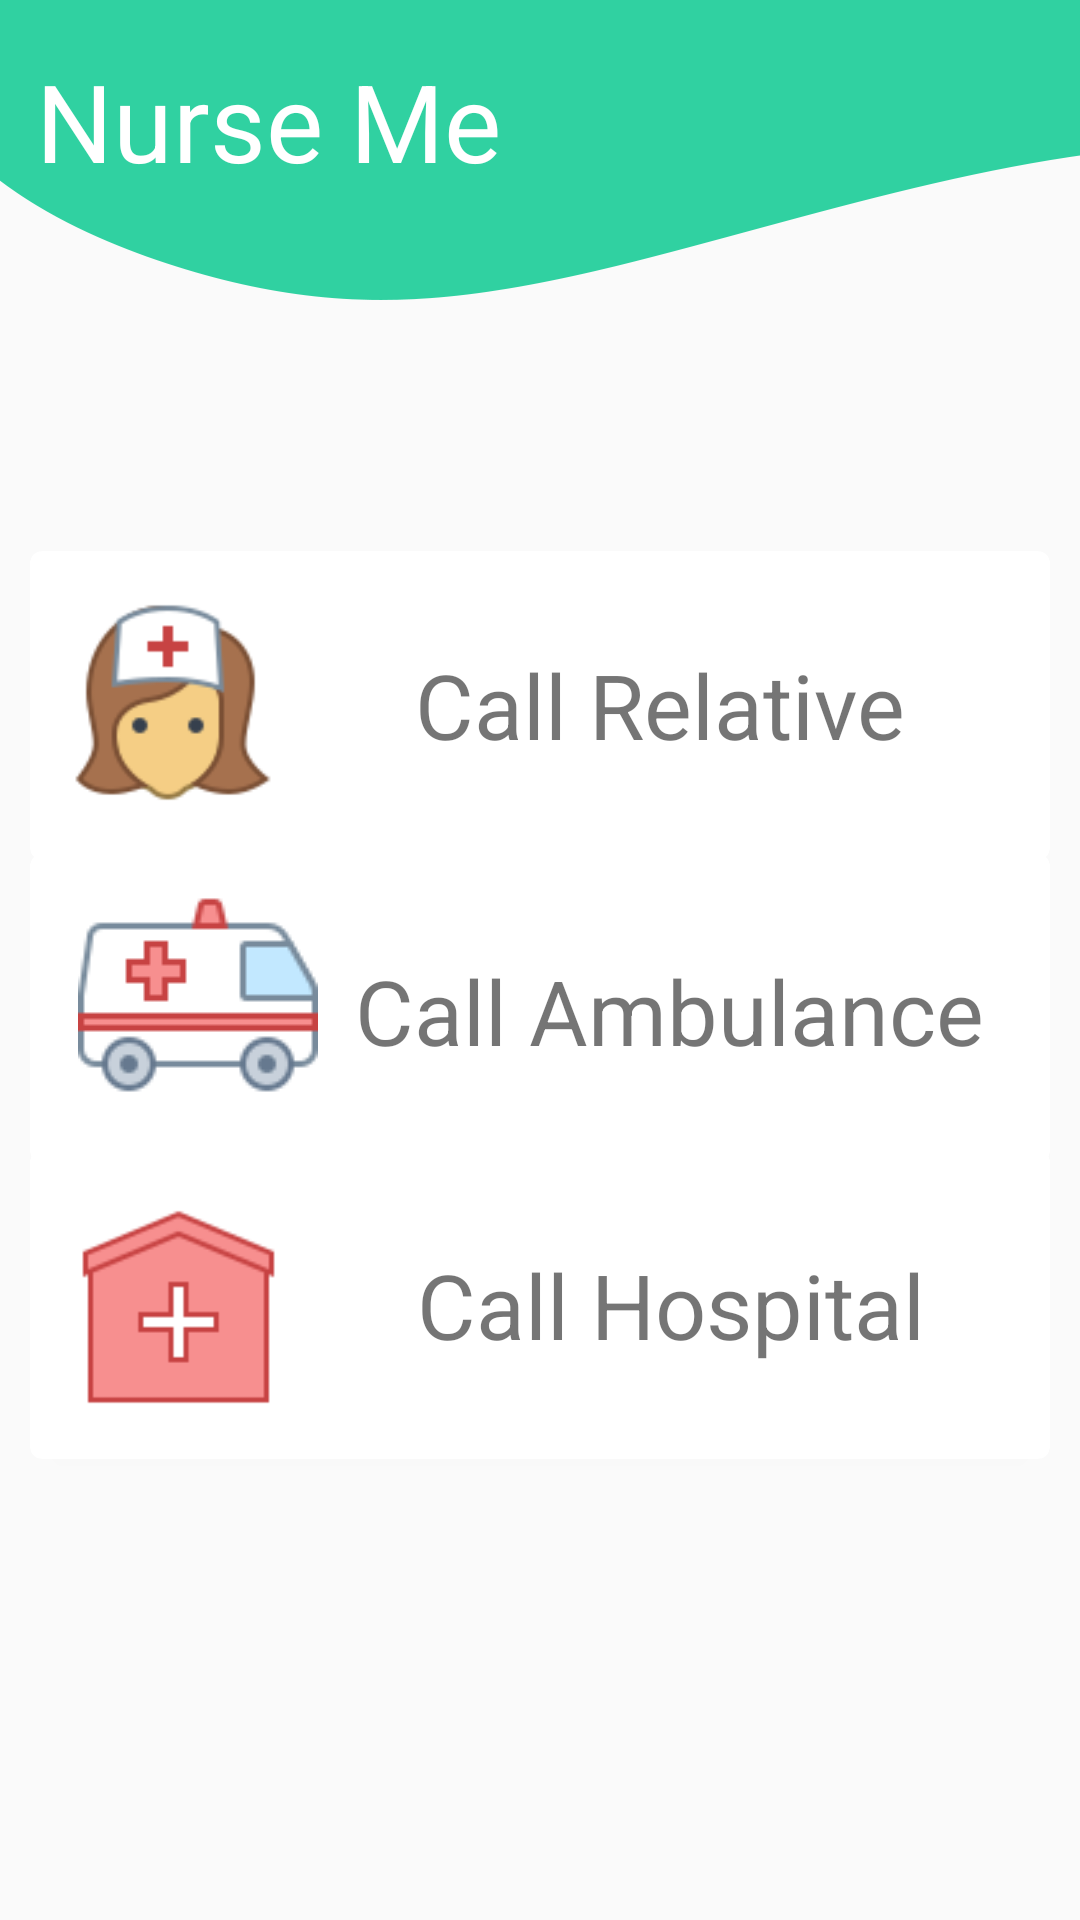

Icons on this 1080x1920 Android screen, each with its box as [x1,y1,x2,y2]:
callnurse: [75,605,270,800]
